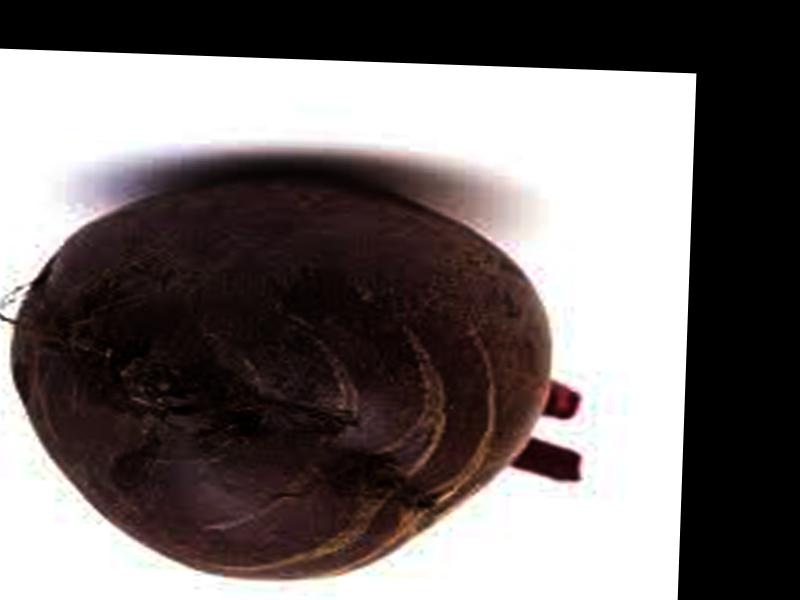Beet: (2, 158, 585, 594)
